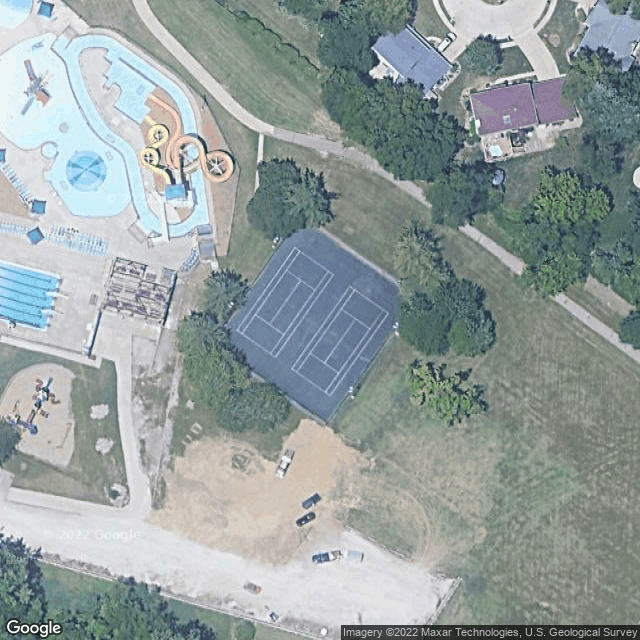Court: (288, 285, 391, 397), (233, 246, 334, 358)
